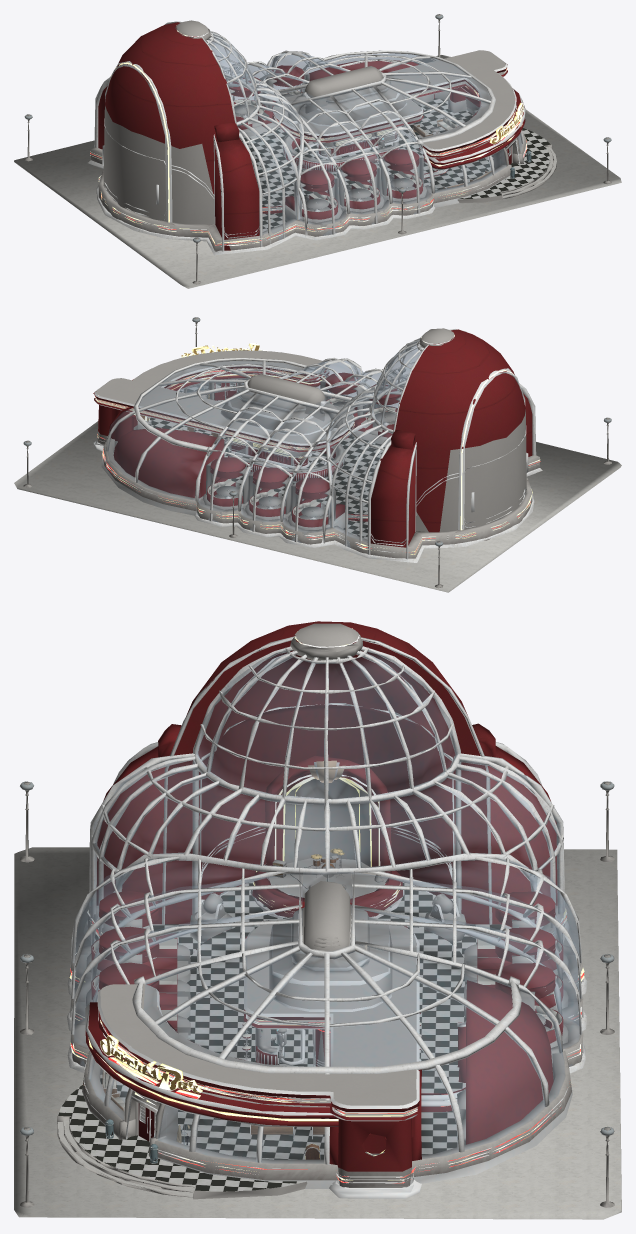
File: cargo_retro_bar.glb
3 renders of one model, top to bottom at view 1: azimuth 30°, elevation 25°; view 2: azimuth 150°, elevation 25°; view 3: azimuth 270°, elevation 25°, orthographic. The views are drawn at different scales.
Parts seen in each view (by area): view 1: KB3D_ATP_BldgSmBar_A_Building, KB3D_ATP_BldgSmBar_A_Building_transparent, KB3D_ATP_BldgSmBar_A_Base, KB3D_ATP_BldgSmBar_A_Floor, KB3D_ATP_BldgSmBar_A_BoothB, KB3D_ATP_BldgSmBar_A_BoothC, KB3D_ATP_BldgSmBar_A_BoothD, KB3D_ATP_BldgSmBar_A_BoothE, KB3D_ATP_BldgSmBar_A_BarC, KB3D_ATP_BldgSmBar_A_BarD, KB3D_ATP_BldgSmBar_A_BoothA, KB3D_ATP_BldgSmBar_A_Signage; view 2: KB3D_ATP_BldgSmBar_A_Building, KB3D_ATP_BldgSmBar_A_Building_transparent, KB3D_ATP_BldgSmBar_A_Base, KB3D_ATP_BldgSmBar_A_Floor, KB3D_ATP_BldgSmBar_A_BoothF, KB3D_ATP_BldgSmBar_A_BoothE, KB3D_ATP_BldgSmBar_A_BoothA, KB3D_ATP_BldgSmBar_A_BoothC, KB3D_ATP_BldgSmBar_A_BarC, KB3D_ATP_BldgSmBar_A_BoothD, KB3D_ATP_BldgSmBar_A_BarD; view 3: KB3D_ATP_BldgSmBar_A_Building, KB3D_ATP_BldgSmBar_A_Building_transparent, KB3D_ATP_BldgSmBar_A_Base, KB3D_ATP_BldgSmBar_A_Floor, KB3D_ATP_BldgSmBar_A_BoothB, KB3D_ATP_BldgSmBar_A_BoothF, KB3D_ATP_BldgSmBar_A_BoothC, KB3D_ATP_BldgSmBar_A_BoothA, KB3D_ATP_BldgSmBar_A_Signage, KB3D_ATP_BldgSmBar_A_BoothE, KB3D_ATP_BldgSmBar_A_BoothD.
Boxes of the visible parts, <box> form: KB3D_ATP_BldgSmBar_A_Building: <box>88,20,556,255</box>; KB3D_ATP_BldgSmBar_A_Building_transparent: <box>208,31,522,239</box>; KB3D_ATP_BldgSmBar_A_Base: <box>14,55,621,288</box>; KB3D_ATP_BldgSmBar_A_Floor: <box>243,127,448,213</box>; KB3D_ATP_BldgSmBar_A_BoothB: <box>282,170,342,222</box>; KB3D_ATP_BldgSmBar_A_BoothC: <box>326,159,384,212</box>; KB3D_ATP_BldgSmBar_A_BoothD: <box>369,149,426,203</box>; KB3D_ATP_BldgSmBar_A_BoothE: <box>229,77,278,136</box>; KB3D_ATP_BldgSmBar_A_BarC: <box>283,135,399,173</box>; KB3D_ATP_BldgSmBar_A_BarD: <box>317,132,398,159</box>; KB3D_ATP_BldgSmBar_A_BoothA: <box>265,65,309,109</box>; KB3D_ATP_BldgSmBar_A_Signage: <box>489,103,523,144</box>; KB3D_ATP_BldgSmBar_A_Building: <box>93,328,542,562</box>; KB3D_ATP_BldgSmBar_A_Building_transparent: <box>107,339,421,547</box>; KB3D_ATP_BldgSmBar_A_Base: <box>14,379,621,592</box>; KB3D_ATP_BldgSmBar_A_Floor: <box>224,435,385,521</box>; KB3D_ATP_BldgSmBar_A_BoothF: <box>288,478,345,529</box>; KB3D_ATP_BldgSmBar_A_BoothE: <box>245,467,303,520</box>; KB3D_ATP_BldgSmBar_A_BoothA: <box>203,457,260,509</box>; KB3D_ATP_BldgSmBar_A_BoothC: <box>351,384,400,444</box>; KB3D_ATP_BldgSmBar_A_BarC: <box>228,444,344,483</box>; KB3D_ATP_BldgSmBar_A_BoothD: <box>320,372,364,420</box>; KB3D_ATP_BldgSmBar_A_BarD: <box>228,442,309,468</box>; KB3D_ATP_BldgSmBar_A_Building: <box>57,621,587,1199</box>; KB3D_ATP_BldgSmBar_A_Building_transparent: <box>73,649,581,1163</box>; KB3D_ATP_BldgSmBar_A_Base: <box>14,847,621,1219</box>; KB3D_ATP_BldgSmBar_A_Floor: <box>187,917,466,1111</box>; KB3D_ATP_BldgSmBar_A_BoothB: <box>87,891,190,982</box>; KB3D_ATP_BldgSmBar_A_BoothF: <box>464,891,568,981</box>; KB3D_ATP_BldgSmBar_A_BoothC: <box>86,926,190,1018</box>; KB3D_ATP_BldgSmBar_A_BoothA: <box>464,963,568,1047</box>; KB3D_ATP_BldgSmBar_A_Signage: <box>100,1035,202,1098</box>; KB3D_ATP_BldgSmBar_A_BoothE: <box>464,927,568,1017</box>; KB3D_ATP_BldgSmBar_A_BoothD: <box>99,962,190,1040</box>.
Bounding box in the file's own units: 27.96 × 10.63 × 19.42.
33 materials, 33 textured.
